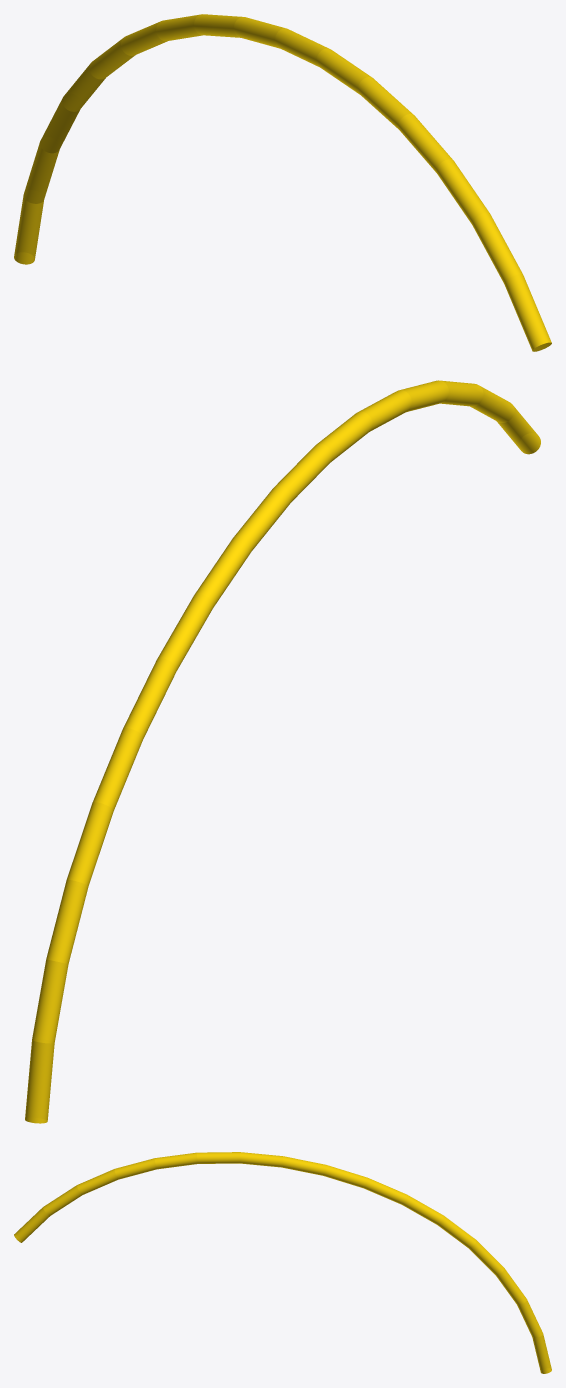
Rendered from Event_421127236_track_25.fbx.
3 renders of one model, top to bottom at view 1: azimuth 30°, elevation 25°; view 2: azimuth 150°, elevation 25°; view 3: azimuth 270°, elevation 25°, orthographic. The views are drawn at different scales.
Visible parts, largest first — view 1: Model; view 2: Model; view 3: Model.
Part boxes in pixels (x1,y1,x2,y2): Model: [14, 14, 551, 351]; Model: [25, 380, 540, 1123]; Model: [14, 1152, 551, 1373].
Bounding box in the file's own units: 0.1089 × 0.8613 × 1.87.
